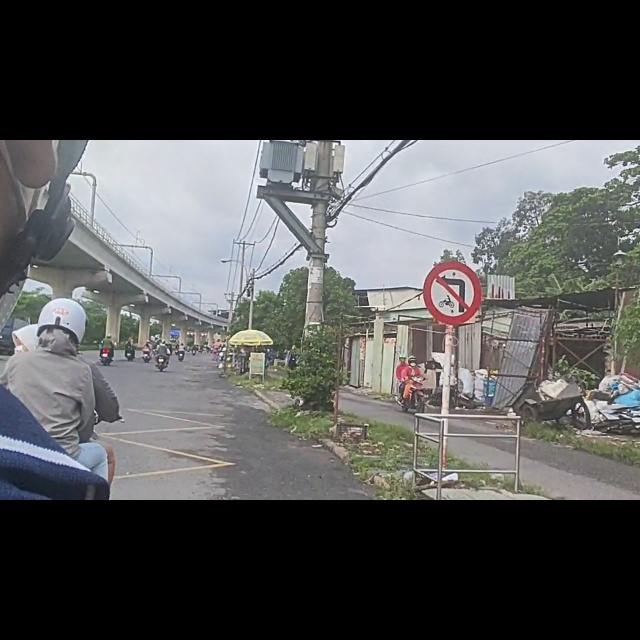bien_cam: (423, 213, 485, 333)
